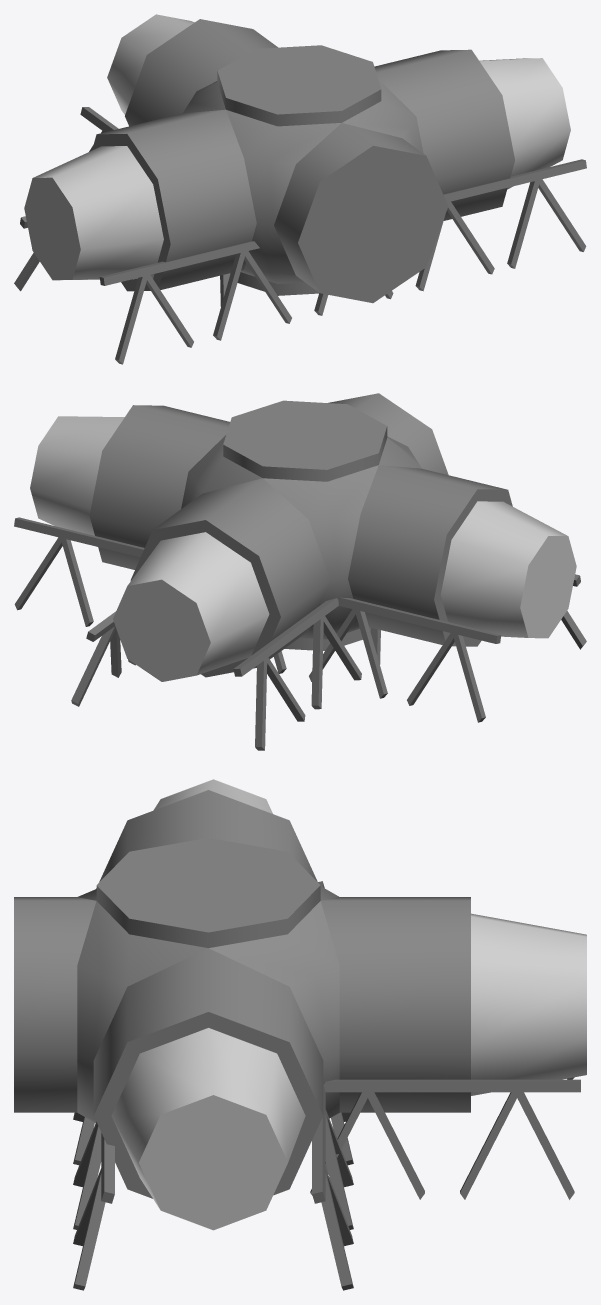
The model's file is TunnelIntersectionT.glb.
3 views of the same model, one above another, from view 1: azimuth 30°, elevation 25°; view 2: azimuth 150°, elevation 25°; view 3: azimuth 270°, elevation 25° (orthographic). The views are drawn at different scales.
Visible parts, largest first — view 1: IntersectionT, IntersectionT1, IntersectionT2; view 2: IntersectionT, IntersectionT1, IntersectionT2; view 3: IntersectionT, IntersectionT1, IntersectionT2.
Part boxes in pixels (<box>): IntersectionT: <box>24,14,570,303</box>; IntersectionT1: <box>14,159,586,364</box>; IntersectionT2: <box>80,107,230,306</box>; IntersectionT: <box>30,393,576,681</box>; IntersectionT1: <box>14,517,586,722</box>; IntersectionT2: <box>71,598,380,750</box>; IntersectionT: <box>14,779,586,1230</box>; IntersectionT1: <box>73,881,353,1290</box>; IntersectionT2: <box>310,1077,580,1199</box>.
Bounding box in the file's own units: 2.01 × 0.7546 × 1.53.
1 material, 1 textured.
